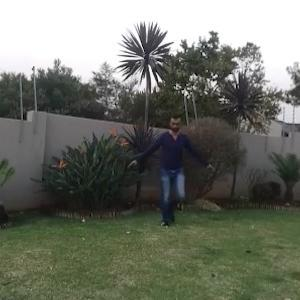land: (119, 106, 215, 228)
